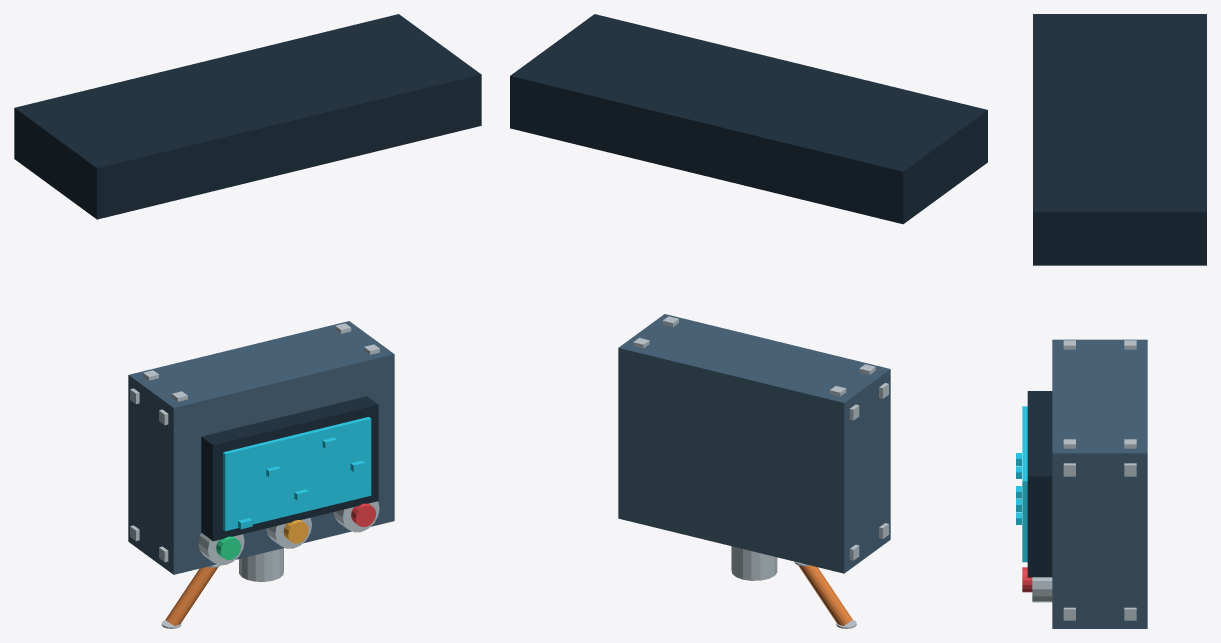
File: 51_L77_WaferSurfaceDefectInspectionCamera.fbx
3 views of the same model, side by side, from view 1: azimuth 30°, elevation 25°; view 2: azimuth 150°, elevation 25°; view 3: azimuth 270°, elevation 25° (orthographic). The views are drawn at different scales.
Parts seen in each view (by area): view 1: WaferSurfaceDefectInspectionCamera; view 2: WaferSurfaceDefectInspectionCamera; view 3: WaferSurfaceDefectInspectionCamera.
Boxes of the visible parts, bbox=[...] form: WaferSurfaceDefectInspectionCamera: bbox=[14, 14, 481, 628]; WaferSurfaceDefectInspectionCamera: bbox=[510, 14, 987, 628]; WaferSurfaceDefectInspectionCamera: bbox=[1016, 14, 1206, 628].
Size of the model in its own units: 94 by 119 by 38.4.
